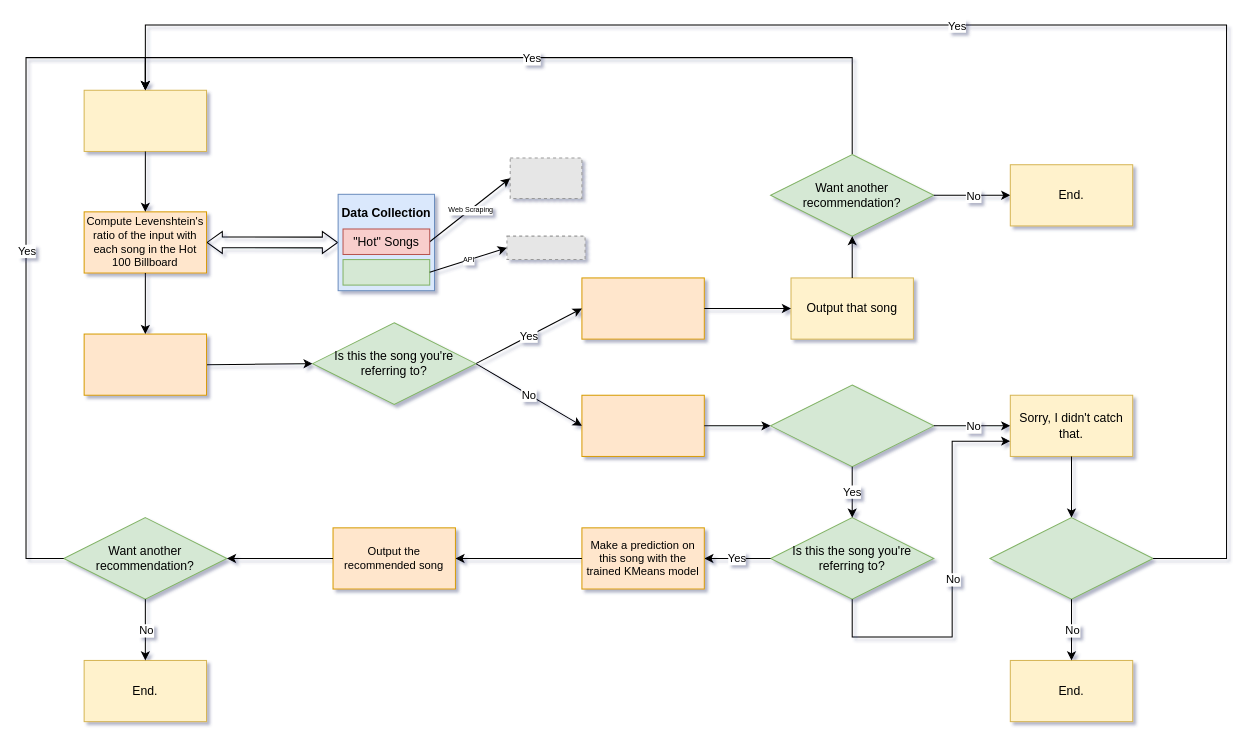
This 1259x746 diagram has some shape labels left out. Grey dashed boxes stand in for pictures. The shapes that lost their labels are listed below. From the top down, each one's centre as x and y in pixels, then its label:
(x=145, y=120): User inputs a song
(x=386, y=272): Spotify
(x=642, y=308): Randomly pick another song from the Billboard HOT 100
(x=145, y=364): Find the best match from the Hot 100 in the list
(x=642, y=425): Look for the song in Spotify
(x=852, y=425): Match?
(x=1071, y=558): Wanna try again?
